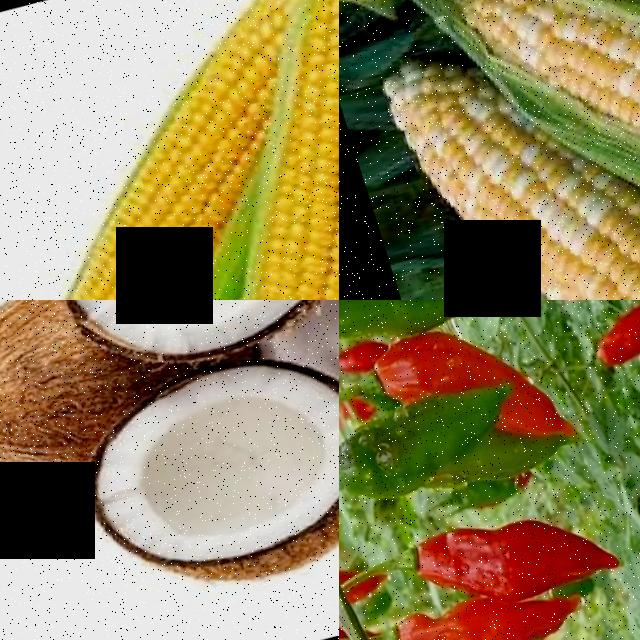chilli: (393, 480, 621, 625), (339, 370, 533, 519), (378, 564, 593, 640), (339, 300, 493, 381), (576, 300, 640, 381)
coconut: (57, 336, 339, 620), (29, 300, 339, 391), (0, 300, 122, 501)
corn: (23, 0, 338, 254), (370, 36, 571, 272), (455, 0, 640, 163), (224, 0, 339, 233), (484, 138, 640, 300), (0, 214, 244, 300), (179, 179, 339, 300)
